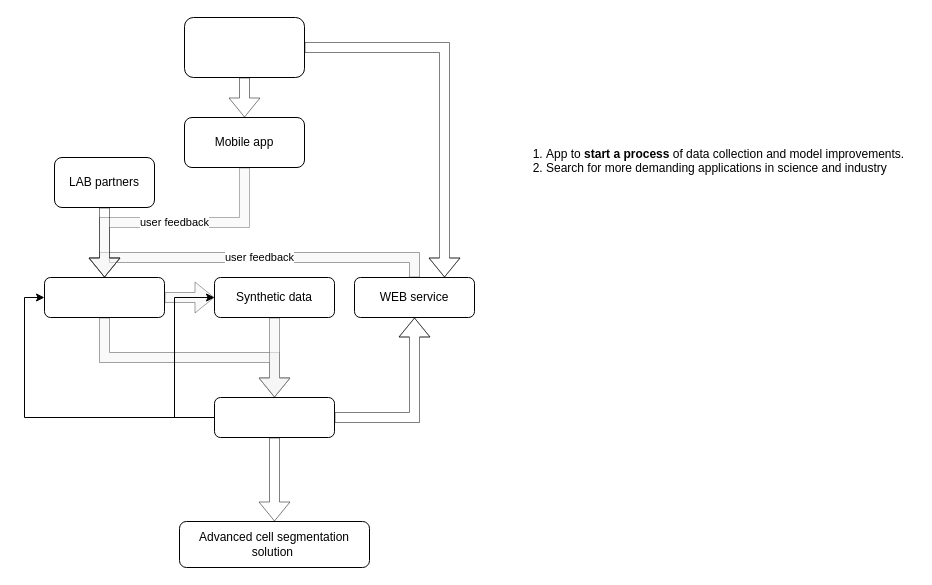
Some shapes in this 932 by 585 pixel diagram are drawn without their labels. Each missing label, with the centre of its shape:
"Data collection" goes at point (104, 297).
"DCNN models" goes at point (274, 417).
"Primary simple solution" goes at point (244, 47).
